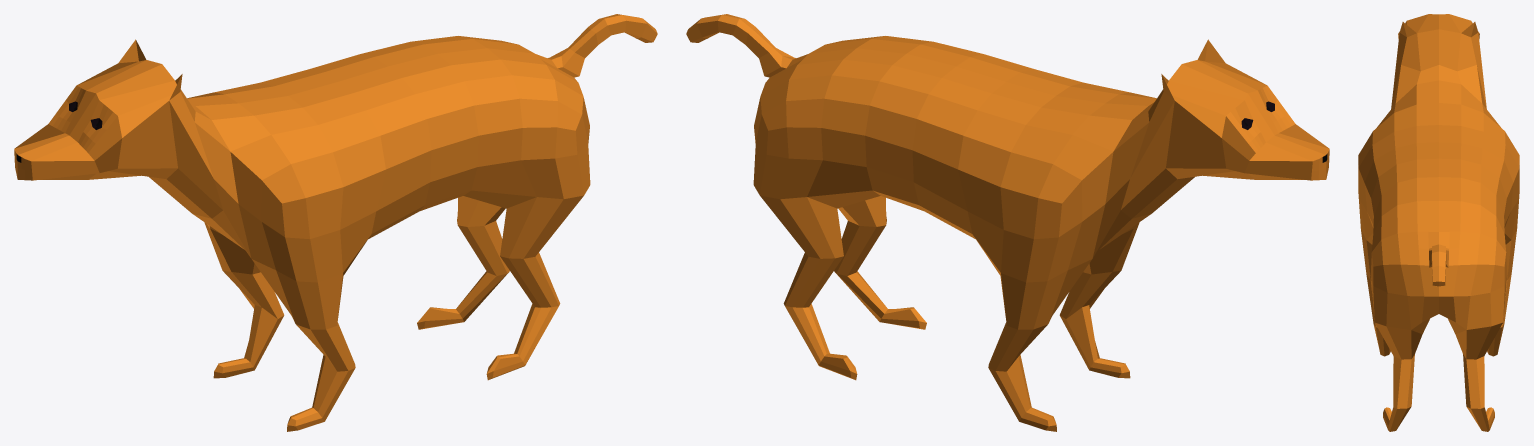
Rendered from Sonny dog with color.glb.
The picture shows the model from 3 angles, left to right: view 1: azimuth 30°, elevation 25°; view 2: azimuth 150°, elevation 25°; view 3: azimuth 270°, elevation 25°; orthographic projection. The views are drawn at different scales.
Parts seen in each view (by area): view 1: 立方體.004; view 2: 立方體.004; view 3: 立方體.004.
Part boxes in pixels (x1,y1,x2,y2): 立方體.004: [14, 14, 657, 431]; 立方體.004: [686, 14, 1329, 431]; 立方體.004: [1358, 14, 1519, 431].
Size of the model in its own units: 12.77 by 7.09 by 3.62.
